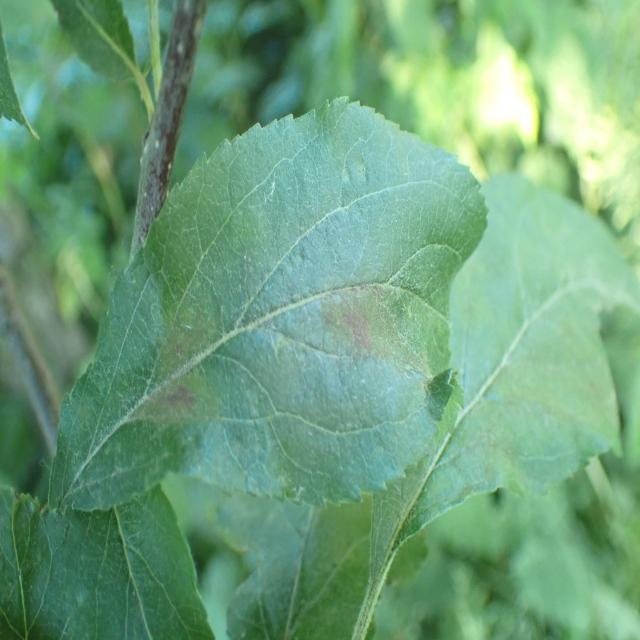scab: (84, 274, 458, 484), (470, 280, 617, 498)
